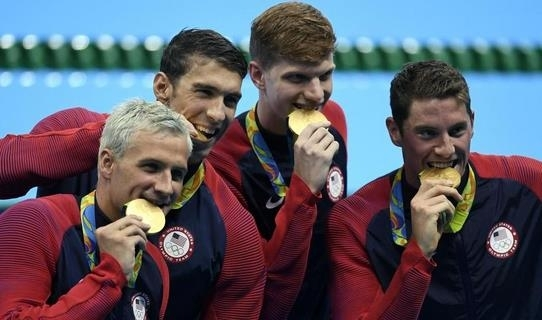face: (116, 140, 190, 226), (403, 101, 471, 187), (178, 63, 242, 154), (265, 53, 334, 133)
